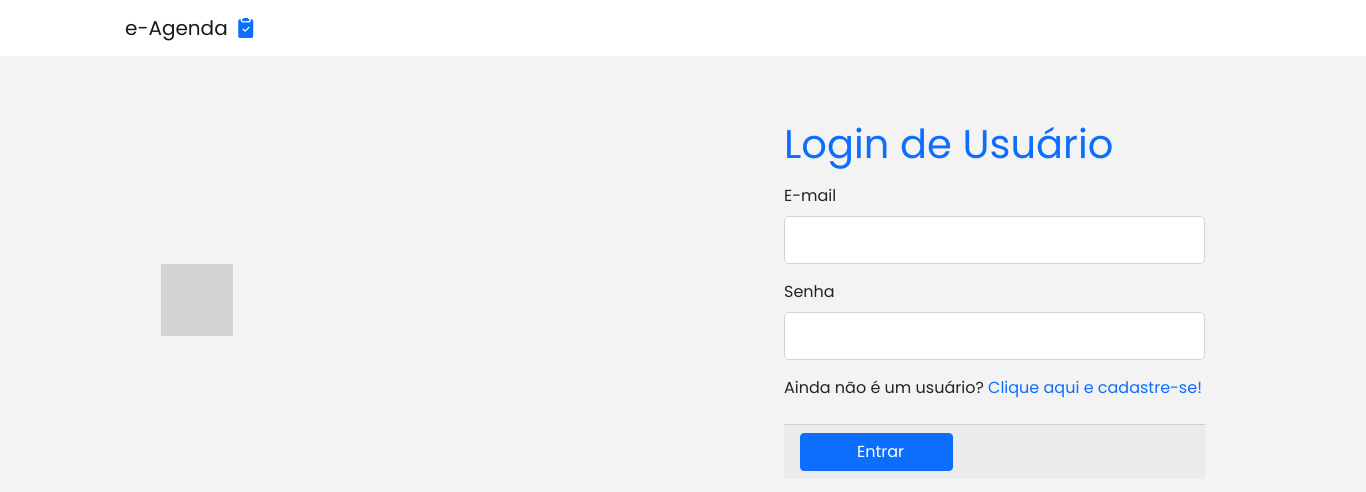
Scenario: Processo de Login do Usuário › Deve validar senha vazia
Focus the password field with test id "senha" at {"x": 995, "y": 336}, box [784,312,1205,360]
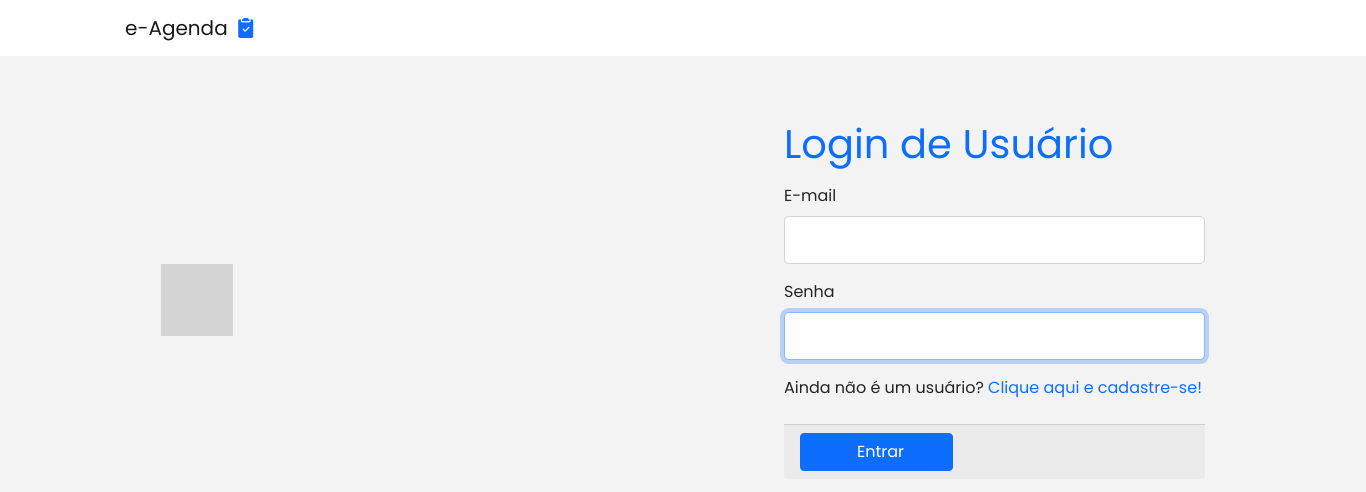
Focus the button with test id "btnEntrar" at {"x": 877, "y": 452}, box [800,433,953,471]
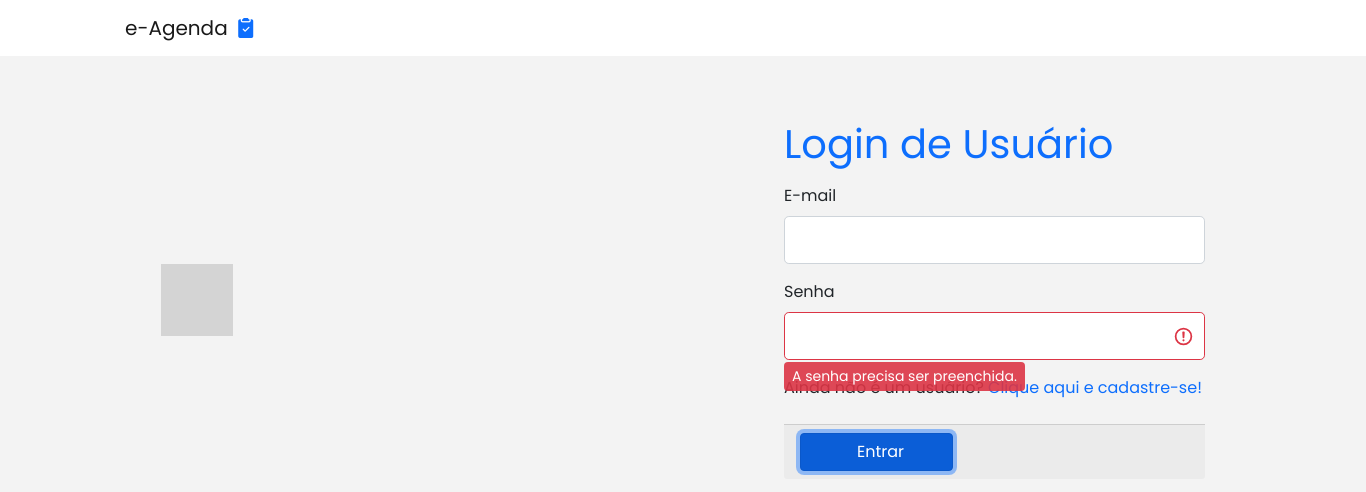
Check: the text "A senha precisa ser preenchida." is shown, box [792,366,1017,386]
